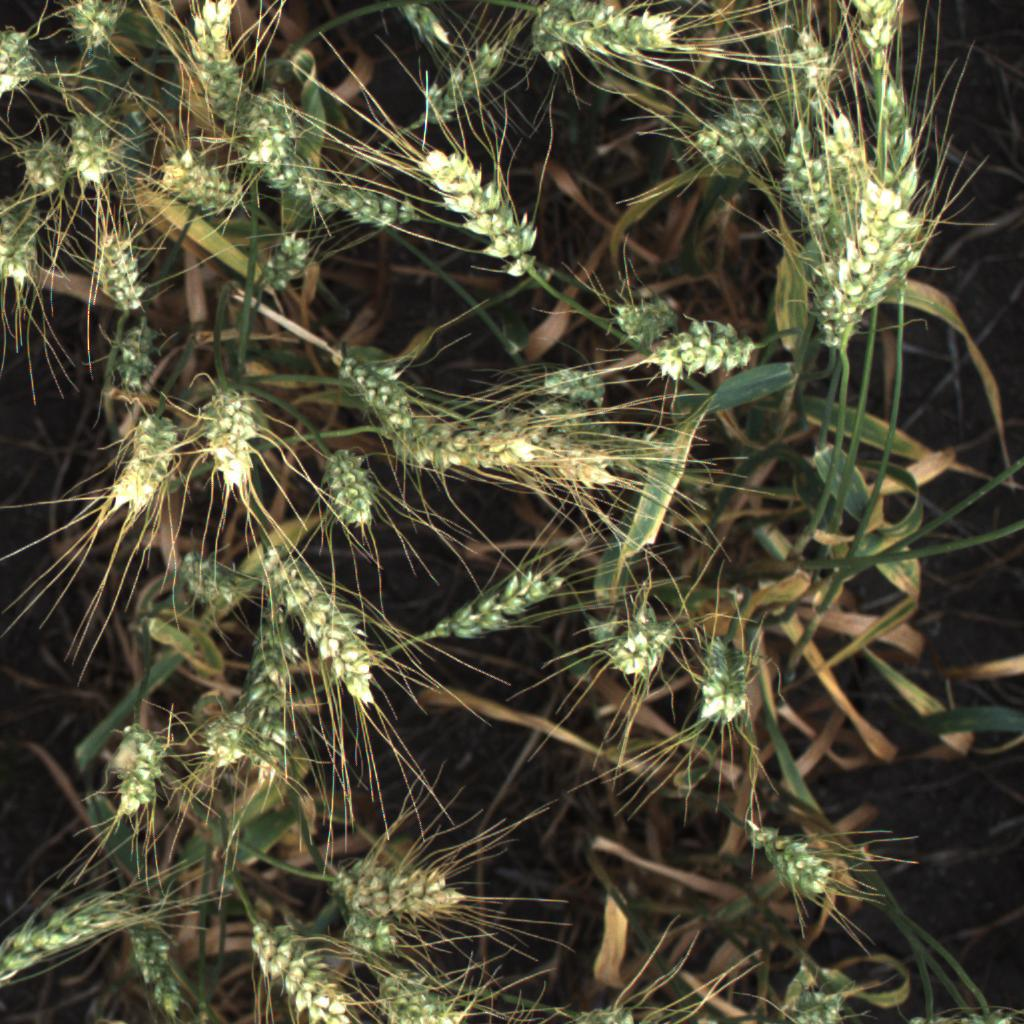0-0: (264, 520, 381, 705), (816, 169, 926, 356), (412, 140, 552, 282), (0, 881, 142, 992), (461, 404, 632, 493), (424, 552, 575, 648), (846, 193, 947, 336), (224, 918, 357, 1024), (229, 602, 322, 740), (858, 48, 936, 212), (170, 0, 254, 136), (524, 0, 696, 65), (383, 415, 560, 478), (646, 312, 778, 394), (744, 812, 854, 910), (95, 411, 184, 523), (188, 380, 268, 501), (416, 33, 515, 130), (766, 123, 845, 242), (121, 914, 204, 1023), (344, 859, 488, 920), (678, 630, 760, 732), (93, 710, 169, 817), (85, 217, 158, 320), (333, 347, 421, 430), (675, 98, 793, 159), (148, 151, 251, 217), (599, 603, 672, 694), (597, 293, 705, 354), (55, 111, 136, 190), (319, 449, 392, 534), (374, 963, 474, 1024), (0, 183, 54, 295), (763, 19, 838, 97), (845, 0, 911, 82), (0, 10, 49, 116), (252, 221, 315, 301), (181, 713, 266, 772), (105, 313, 165, 394), (3, 125, 72, 192), (262, 158, 344, 214), (529, 356, 616, 408), (773, 978, 870, 1024), (248, 83, 297, 173), (171, 542, 240, 605), (379, 0, 462, 52), (565, 989, 677, 1024), (57, 0, 126, 55), (335, 191, 427, 231), (343, 911, 403, 952), (906, 1008, 1020, 1024)
